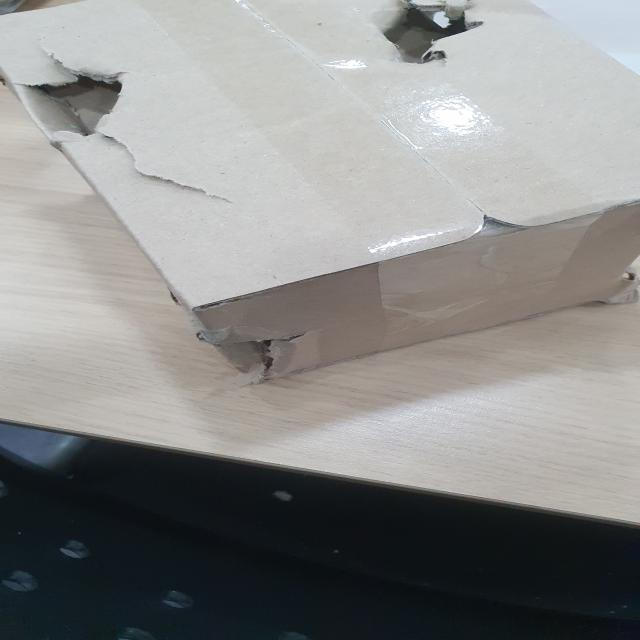hole: (26, 67, 136, 149), (365, 0, 490, 62), (210, 332, 308, 374)
